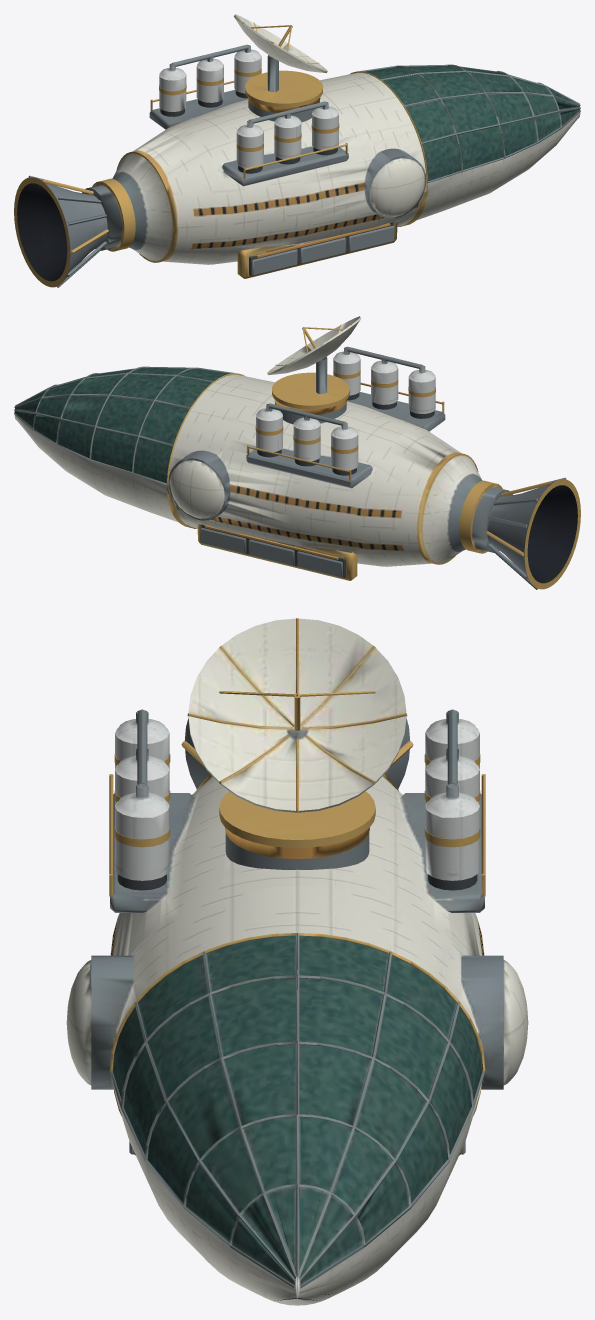
The model's file is seed-renewed.glb.
3 renders of one model, top to bottom at view 1: azimuth 30°, elevation 25°; view 2: azimuth 150°, elevation 25°; view 3: azimuth 270°, elevation 25°, orthographic. The views are drawn at different scales.
Parts seen in each view (by area): view 1: seed-renewed; view 2: seed-renewed; view 3: seed-renewed.
Part boxes in pixels (x1,y1,x2,y2): seed-renewed: (14,14,580,287); seed-renewed: (14,316,580,589); seed-renewed: (66,618,528,1305).
Bounding box in the file's own units: 1 × 0.4107 × 0.3716.
1 material, 1 textured.
